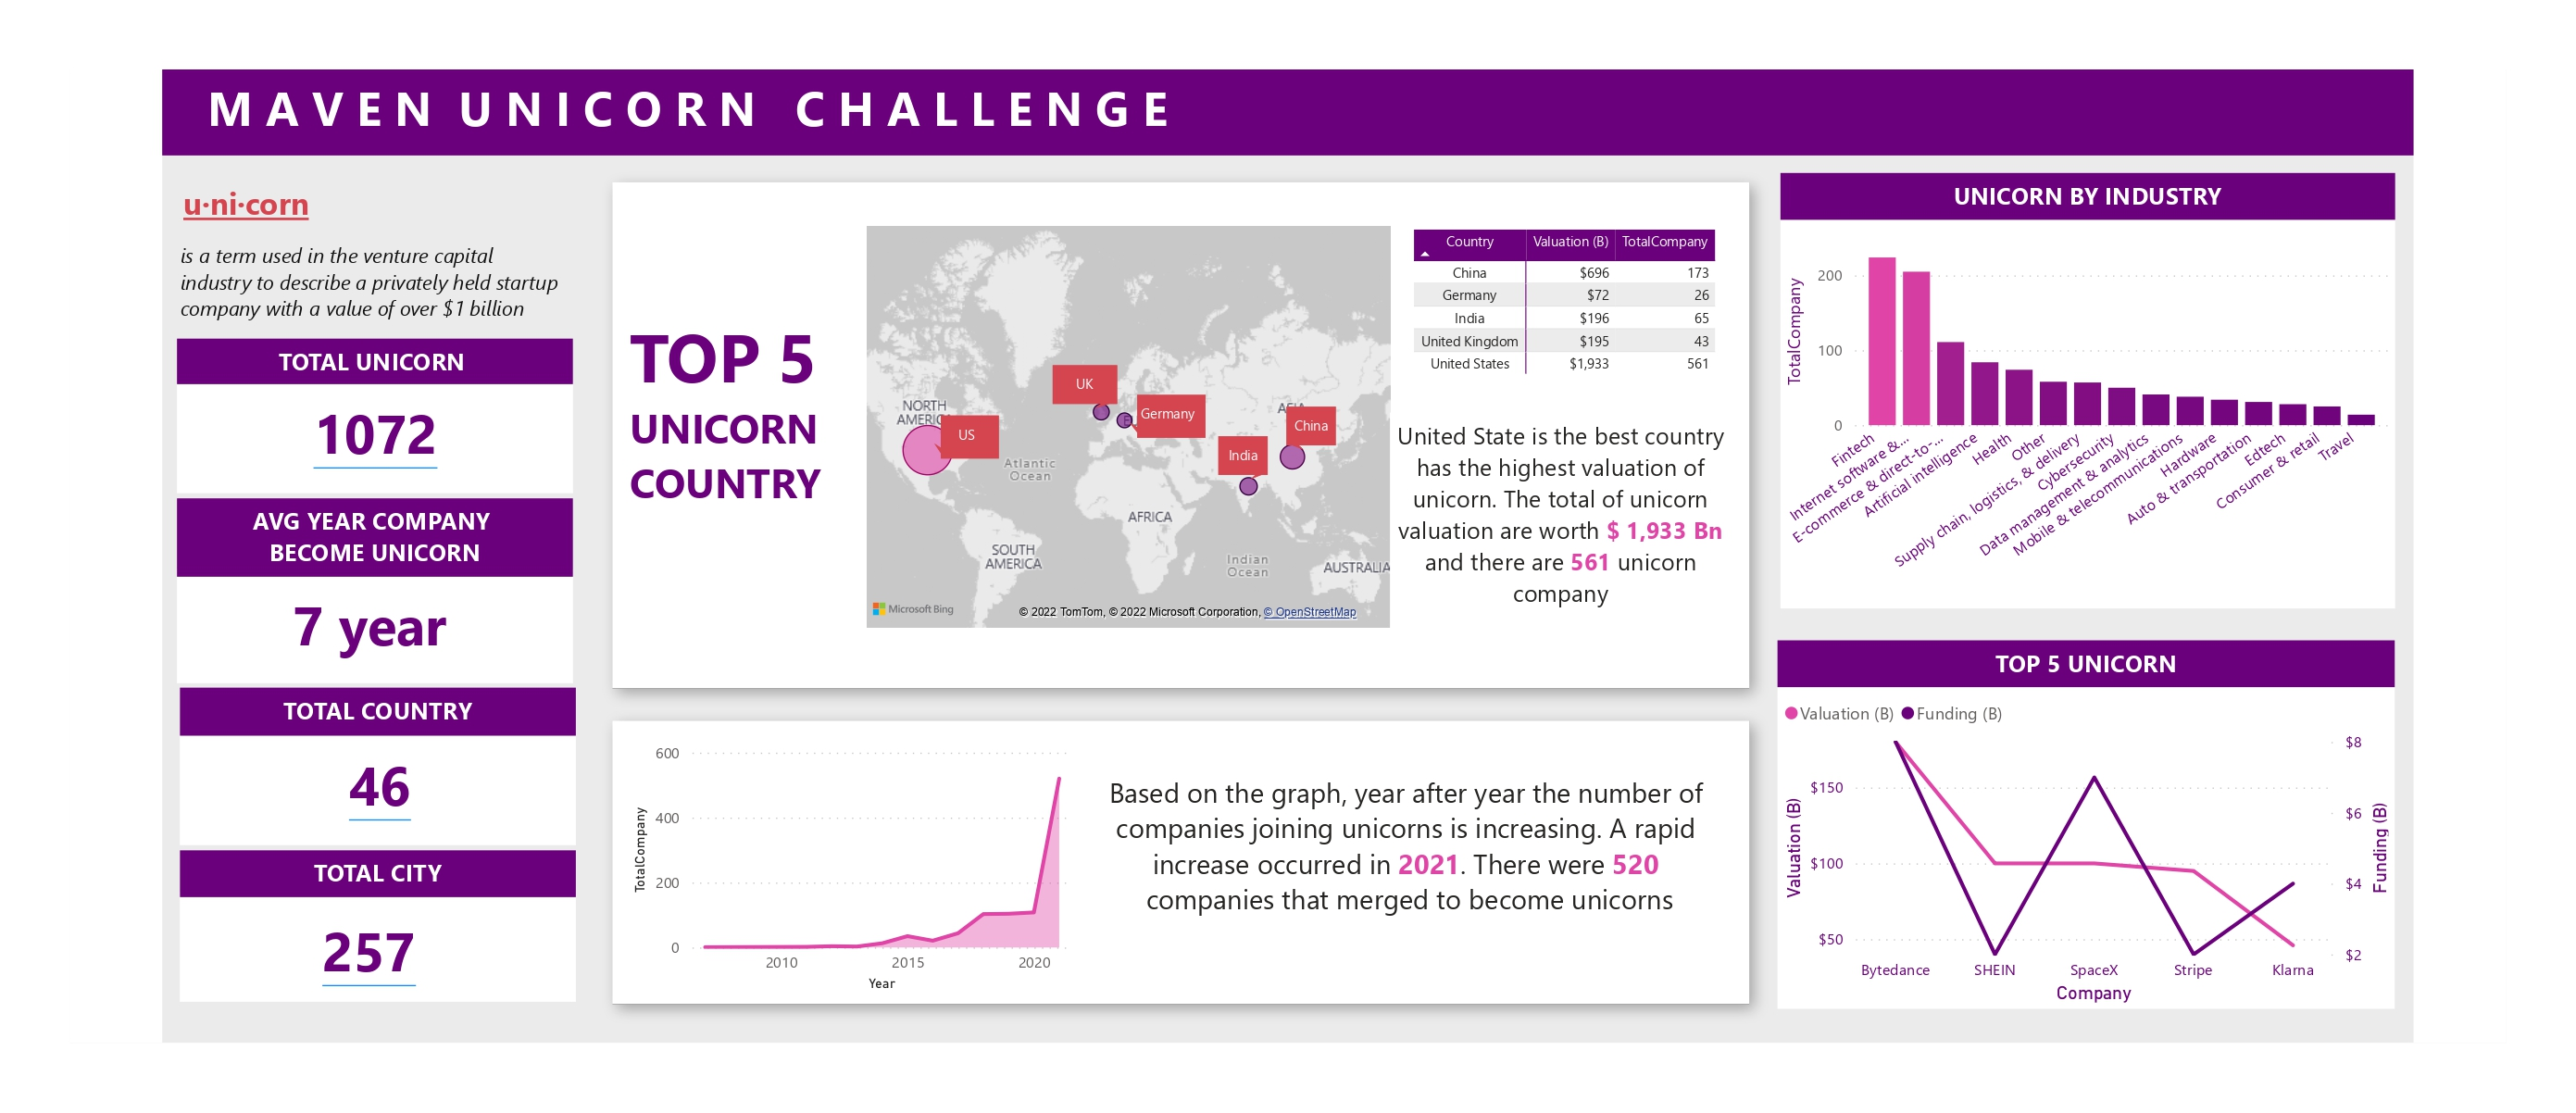

Layout of this report page (visuals, bound fields, positions):
{"tool":"powerbi","page":{"name":"Page 1","canvas":[1780,770],"ordinal":0},"visuals":[{"type":"shape","box":[13.9,650.9,313,87],"z":0},{"type":"shape","box":[14,527,313,87],"z":1000},{"type":"shape","box":[12,247,313,87],"z":2000},{"type":"shape","box":[12,395,313,90],"z":3000},{"type":"textbox","box":[0,0,2000,68],"z":4000},{"type":"textbox","box":[12,214,313,36],"z":5000},{"type":"textbox","box":[128,520,81,79],"z":6000},{"type":"textbox","box":[115,253,139,83],"z":7000},{"type":"textbox","box":[12,338,313,62],"z":8000},{"type":"shape","box":[339,73.4,931.8,433.1],"z":9000},{"type":"shape","box":[338.7,497.2,932,257],"z":10000},{"type":"clusteredColumnChart","fields":{"Category":["Unicorn_Companies2.Industry"],"Y":["Unicorn_Companies2.TotalCompany"]},"box":[1280,120,486,307],"z":11000},{"type":"map","fields":{"Category":["Unicorn_Companies2.Country"],"Size":["Unicorn_Companies2.TotalCompany"]},"box":[552.9,120.3,424,327],"z":12000},{"type":"textbox","box":[14,488,313,38],"z":13000},{"type":"areaChart","fields":{"Category":["Unicorn_Challenge.Date Joined.Variation.Date Hierarchy.Year"],"Y":["Unicorn_Challenge.TotalCompany"]},"box":[366.9,527,359.6,207.3],"z":14000},{"type":"textbox","box":[726.5,552.7,517.5,164.4],"z":15000},{"type":"pivotTable","fields":{"Rows":["Unicorn_Challenge.Country"],"Values":["Sum(Unicorn_Challenge.Valuation)","Unicorn_Challenge.TotalCompany"]},"box":[985.9,122.3,252,125],"z":16000},{"type":"textbox","box":[364.6,185.4,266.8,186],"z":17000},{"type":"shape","box":[887.9,267.3,39,34],"z":18000},{"type":"shape","box":[833.9,290.3,39,34],"z":19000},{"type":"shape","box":[764.9,256.3,60,34],"z":20000},{"type":"shape","box":[703.9,233.3,51,34],"z":21000},{"type":"shape","box":[610.9,273.3,51,34],"z":22000},{"type":"textbox","box":[969.9,272.3,275,175],"z":23000},{"type":"textbox","box":[1280,83,486,37],"z":24000},{"type":"textbox","box":[99,405,172,83],"z":25000},{"type":"textbox","box":[13.9,617.9,313,37],"z":26000},{"type":"textbox","box":[12,84,143,44],"z":27000},{"type":"textbox","box":[9.4,131,315.8,107.6],"z":28000},{"type":"textbox","box":[142,531,70,83],"z":29000},{"type":"textbox","box":[122,661,109,83],"z":30000},{"type":"lineChart","box":[2467,543,234,285],"z":31000},{"type":"lineChart","box":[2508,460,234,285],"z":32000},{"type":"lineChart","fields":{"Category":["Unicorn_Challenge.Company"],"Y":["Sum(Unicorn_Challenge.Valuation (B))"],"Y2":["Sum(Unicorn_Challenge.Funding (B))"]},"box":[1277.4,489.5,488,254],"z":33000},{"type":"textbox","box":[1277.4,452.5,488,37],"z":34000}]}

Visuals, with their boxes in screenshot pixels (x1, y1, x2, y2), scaled from the page's 1780x770 canvas onto the 2576x1113 screenshot:
shape: [x1=20, y1=941, x2=473, y2=1067]
shape: [x1=20, y1=762, x2=473, y2=887]
shape: [x1=18, y1=357, x2=470, y2=482]
shape: [x1=18, y1=571, x2=470, y2=701]
textbox: [x1=0, y1=0, x2=2575, y2=98]
textbox: [x1=18, y1=309, x2=470, y2=361]
textbox: [x1=185, y1=752, x2=303, y2=866]
textbox: [x1=167, y1=366, x2=368, y2=486]
textbox: [x1=18, y1=489, x2=470, y2=578]
shape: [x1=491, y1=106, x2=1839, y2=732]
shape: [x1=490, y1=719, x2=1839, y2=1090]
clusteredColumnChart - Unicorn_Companies2.Industry x Unicorn_Companies2.TotalCompany: [x1=1853, y1=173, x2=2556, y2=618]
map - Unicorn_Companies2.Country x Unicorn_Companies2.TotalCompany: [x1=800, y1=174, x2=1414, y2=646]
textbox: [x1=20, y1=706, x2=473, y2=760]
areaChart - Unicorn_Challenge.Date Joined.Variation.Date Hierarchy.Year x Unicorn_Challenge.TotalCompany: [x1=531, y1=762, x2=1051, y2=1061]
textbox: [x1=1051, y1=799, x2=1800, y2=1036]
pivotTable - Unicorn_Challenge.Country x Sum(Unicorn_Challenge.Valuation): [x1=1427, y1=177, x2=1792, y2=357]
textbox: [x1=528, y1=268, x2=914, y2=537]
shape: [x1=1285, y1=386, x2=1342, y2=435]
shape: [x1=1207, y1=419, x2=1263, y2=469]
shape: [x1=1107, y1=370, x2=1194, y2=419]
shape: [x1=1019, y1=337, x2=1093, y2=386]
shape: [x1=884, y1=395, x2=957, y2=444]
textbox: [x1=1404, y1=394, x2=1802, y2=646]
textbox: [x1=1853, y1=120, x2=2556, y2=173]
textbox: [x1=144, y1=585, x2=393, y2=706]
textbox: [x1=20, y1=894, x2=473, y2=946]
textbox: [x1=18, y1=121, x2=224, y2=185]
textbox: [x1=14, y1=189, x2=470, y2=344]
textbox: [x1=206, y1=768, x2=306, y2=887]
textbox: [x1=177, y1=956, x2=334, y2=1075]
lineChart - Unicorn_Challenge.Company x Sum(Unicorn_Challenge.Valuation (B)): [x1=1848, y1=707, x2=2555, y2=1075]
textbox: [x1=1848, y1=654, x2=2555, y2=707]
